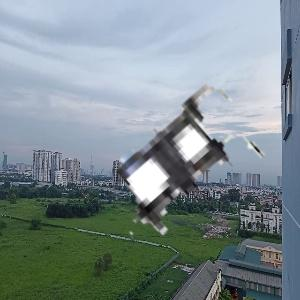drone: (82, 78, 272, 268)
